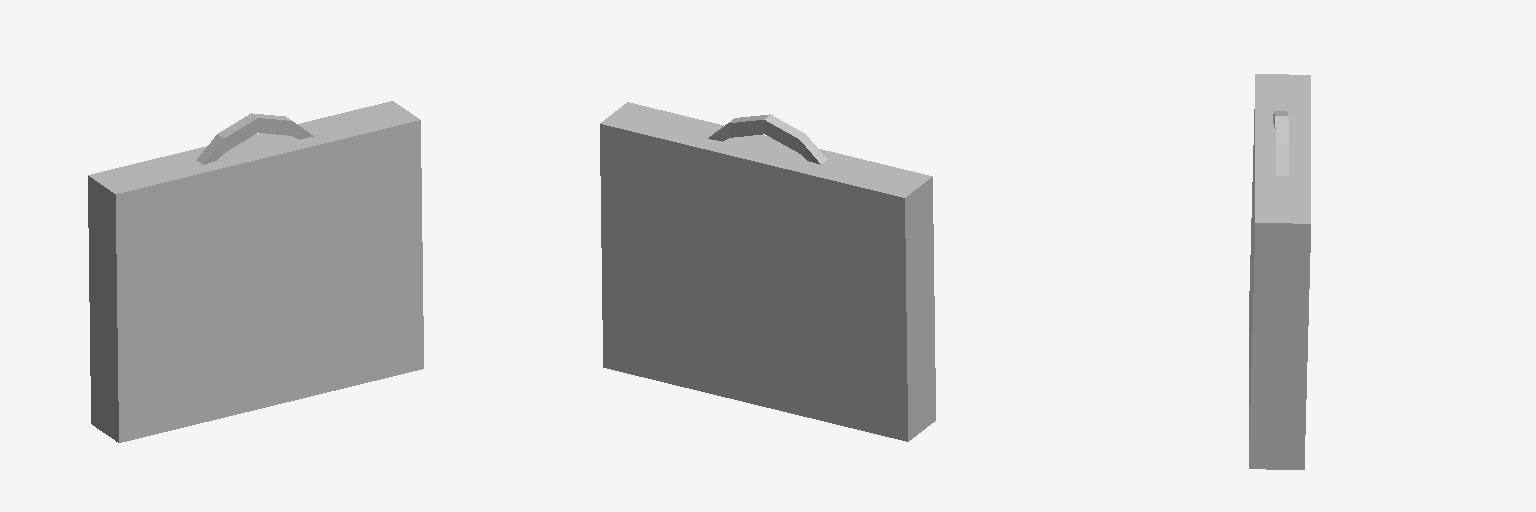
The model's file is suitCase_mesh.obj.
3 renders of one model, left to right at view 1: azimuth 30°, elevation 25°; view 2: azimuth 150°, elevation 25°; view 3: azimuth 270°, elevation 25°, orthographic.
Parts seen in each view (by area): view 1: suitCase_mesh; view 2: suitCase_mesh; view 3: suitCase_mesh.
Part boxes in pixels (left/top/right/bottom): suitCase_mesh: left=88, top=101, right=423, bottom=442; suitCase_mesh: left=600, top=102, right=935, bottom=441; suitCase_mesh: left=1249, top=74, right=1310, bottom=469.
Bounding box in the file's own units: 0.4628 × 0.4055 × 0.0822.